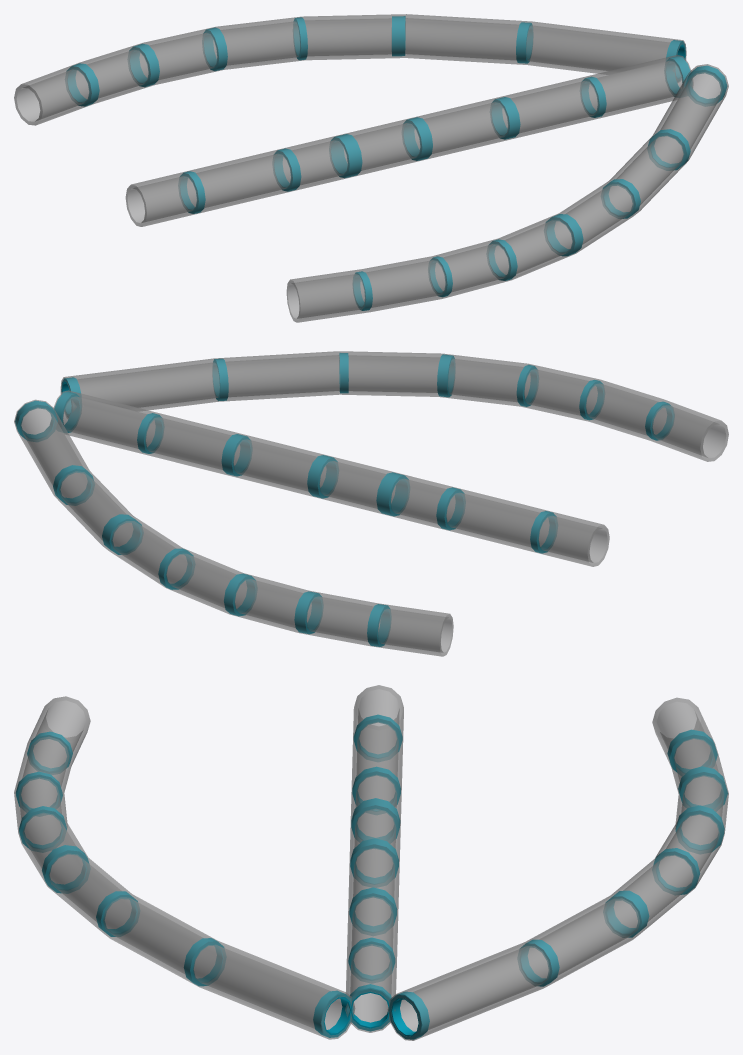
Rendered from tubes.FBX.
3 views of the same model, one above another, from view 1: azimuth 30°, elevation 25°; view 2: azimuth 150°, elevation 25°; view 3: azimuth 270°, elevation 25° (orthographic). The views are drawn at different scales.
Parts seen in each view (by area): view 1: Line003, Object014, Object015, Object016, Object012, Object020, Object024, Object011, Object013, Object019, Object023, Object017 (+7 smaller); view 2: Line003, Object014, Object015, Object016, Object012, Object009, Object011, Object024, Object013, Object008, Object010, Object007 (+7 smaller); view 3: Line003, Object009, Object007, Object015, Object008, Object020, Object016, Object011, Object014, Object019, Object010, Object023 (+8 smaller).
Boxes of the visible parts, x1=… form: Line003: x1=14, y1=14, x2=728, y2=322; Object014: x1=329, y1=134, x2=362, y2=178; Object015: x1=402, y1=117, x2=432, y2=160; Object016: x1=490, y1=97, x2=520, y2=139; Object012: x1=128, y1=44, x2=159, y2=87; Object020: x1=544, y1=214, x2=583, y2=256; Object024: x1=65, y1=63, x2=99, y2=106; Object011: x1=202, y1=27, x2=227, y2=70; Object013: x1=273, y1=148, x2=301, y2=191; Object019: x1=601, y1=179, x2=640, y2=218; Object023: x1=178, y1=171, x2=205, y2=213; Object017: x1=580, y1=76, x2=606, y2=117; Line003: x1=14, y1=351, x2=728, y2=656; Object014: x1=376, y1=472, x2=409, y2=516; Object015: x1=307, y1=455, x2=338, y2=498; Object016: x1=221, y1=434, x2=251, y2=476; Object012: x1=294, y1=591, x2=322, y2=634; Object009: x1=102, y1=514, x2=142, y2=554; Object011: x1=224, y1=573, x2=256, y2=616; Object024: x1=367, y1=604, x2=390, y2=646; Object013: x1=436, y1=487, x2=465, y2=530; Object008: x1=53, y1=465, x2=94, y2=505; Object010: x1=158, y1=548, x2=194, y2=589; Object007: x1=15, y1=400, x2=57, y2=441; Line003: x1=14, y1=685, x2=728, y2=1040; Object009: x1=603, y1=890, x2=649, y2=937; Object007: x1=389, y1=991, x2=429, y2=1039; Object015: x1=350, y1=838, x2=398, y2=887; Object008: x1=518, y1=939, x2=559, y2=986; Object020: x1=42, y1=845, x2=89, y2=893; Object016: x1=349, y1=887, x2=396, y2=935; Object011: x1=675, y1=805, x2=724, y2=853; Object014: x1=351, y1=798, x2=400, y2=842; Object019: x1=96, y1=891, x2=139, y2=936; Object010: x1=652, y1=848, x2=699, y2=894; Object023: x1=353, y1=714, x2=402, y2=761.
Size of the model in its own units: 248 by 16.62 by 236.
